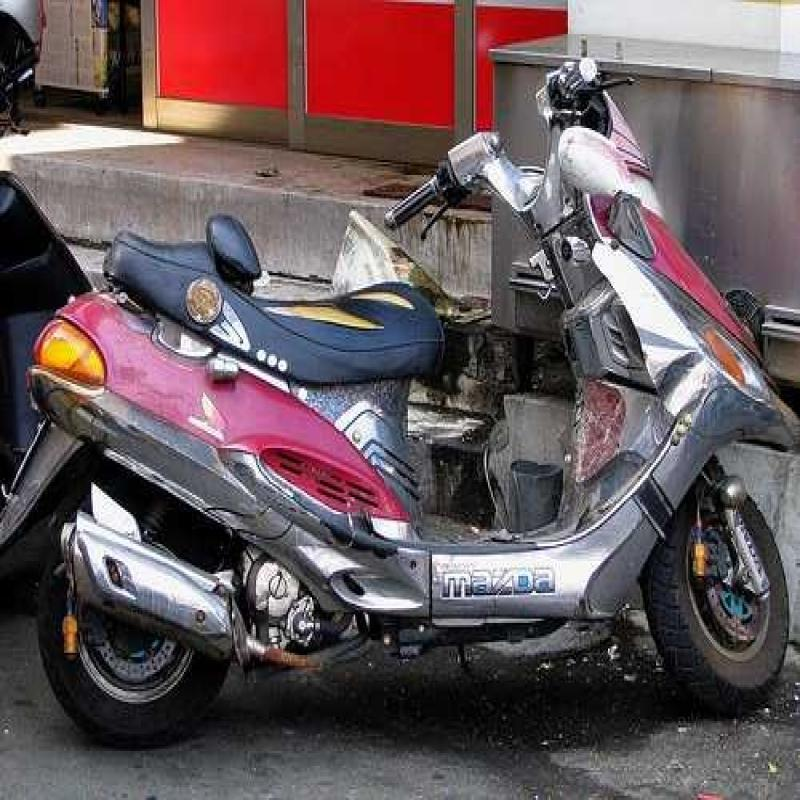bike: (20, 79, 800, 738)
